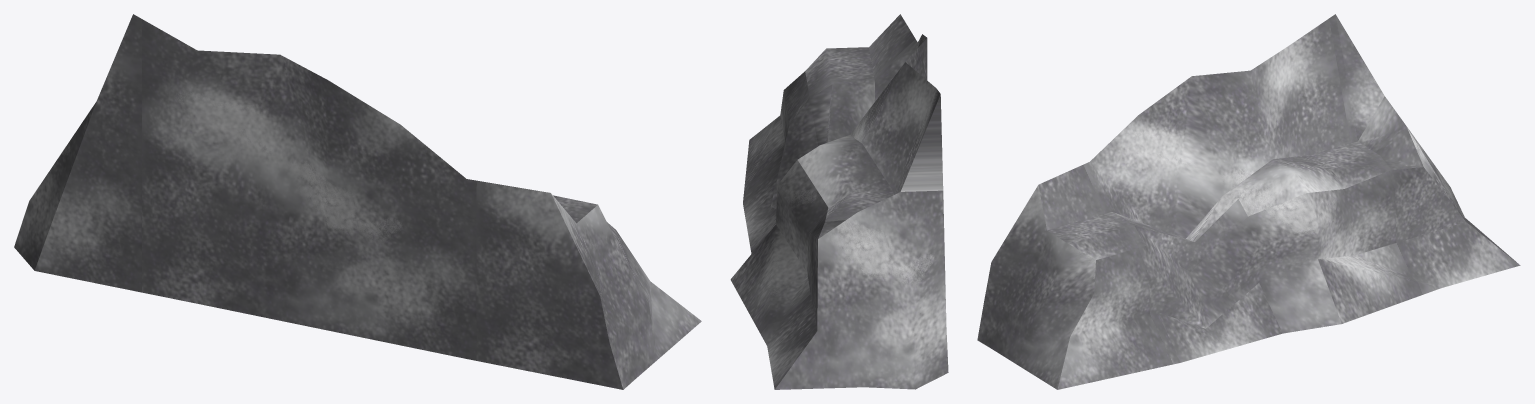
The model's file is MountainR1.FBX.
3 renders of one model, left to right at view 1: azimuth 30°, elevation 25°; view 2: azimuth 150°, elevation 25°; view 3: azimuth 270°, elevation 25°, orthographic. The views are drawn at different scales.
Parts seen in each view (by area): view 1: MountainR1; view 2: MountainR1; view 3: MountainR1.
Part boxes in pixels (left/top/right/bottom): MountainR1: left=14, top=14, right=701, bottom=389; MountainR1: left=730, top=14, right=948, bottom=389; MountainR1: left=977, top=14, right=1520, bottom=389.
Size of the model in its own units: 139 by 82.31 by 182.
1 material, 1 textured.
